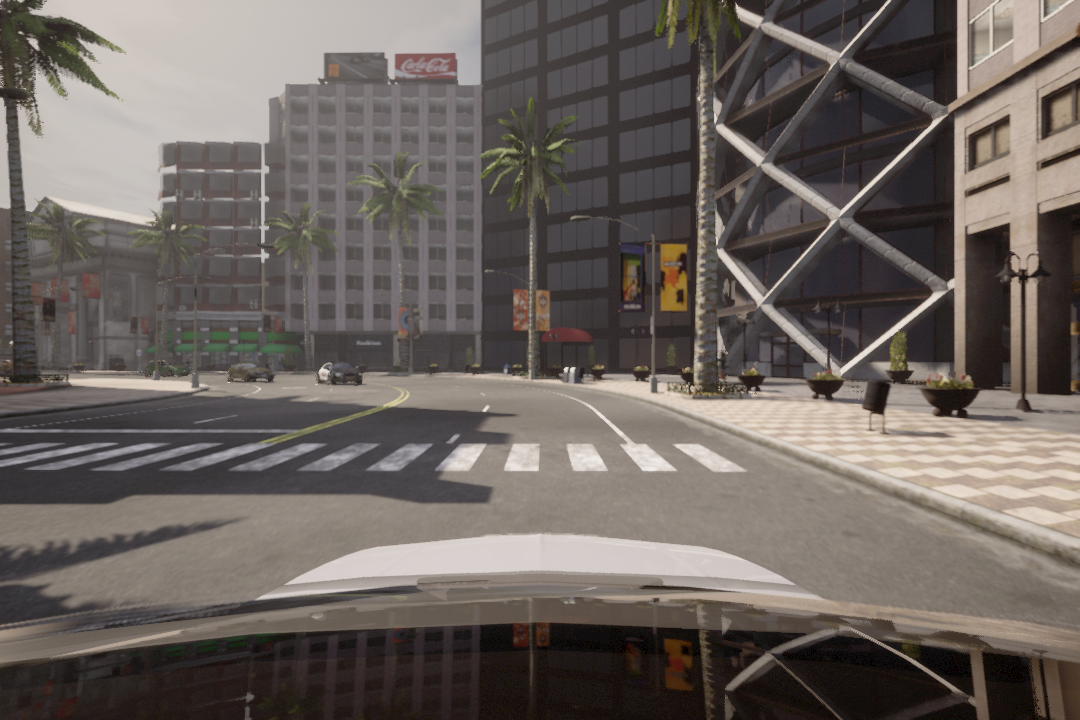walkside: (1, 434, 744, 485)
